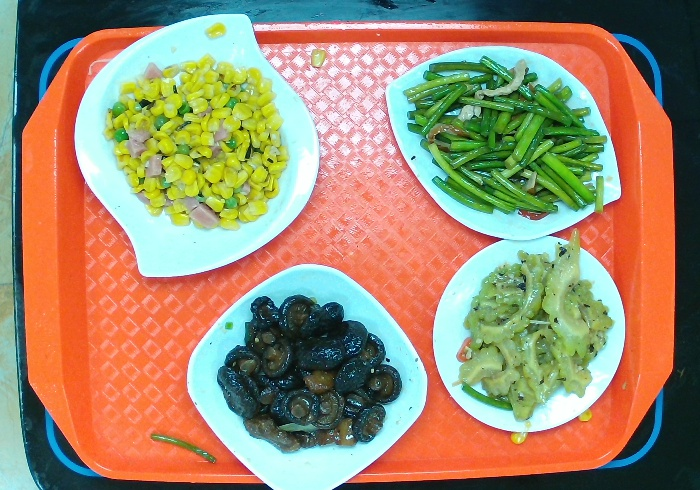RJxy-Da_Du_Pan: (381, 43, 627, 244)
RJxy-Shuang_Jiao_Pan: (71, 8, 324, 282)
RJxy-Si_Fang_Wan: (183, 259, 432, 490)
RJxy-Xiao_Yuan_Die: (427, 234, 629, 436)
